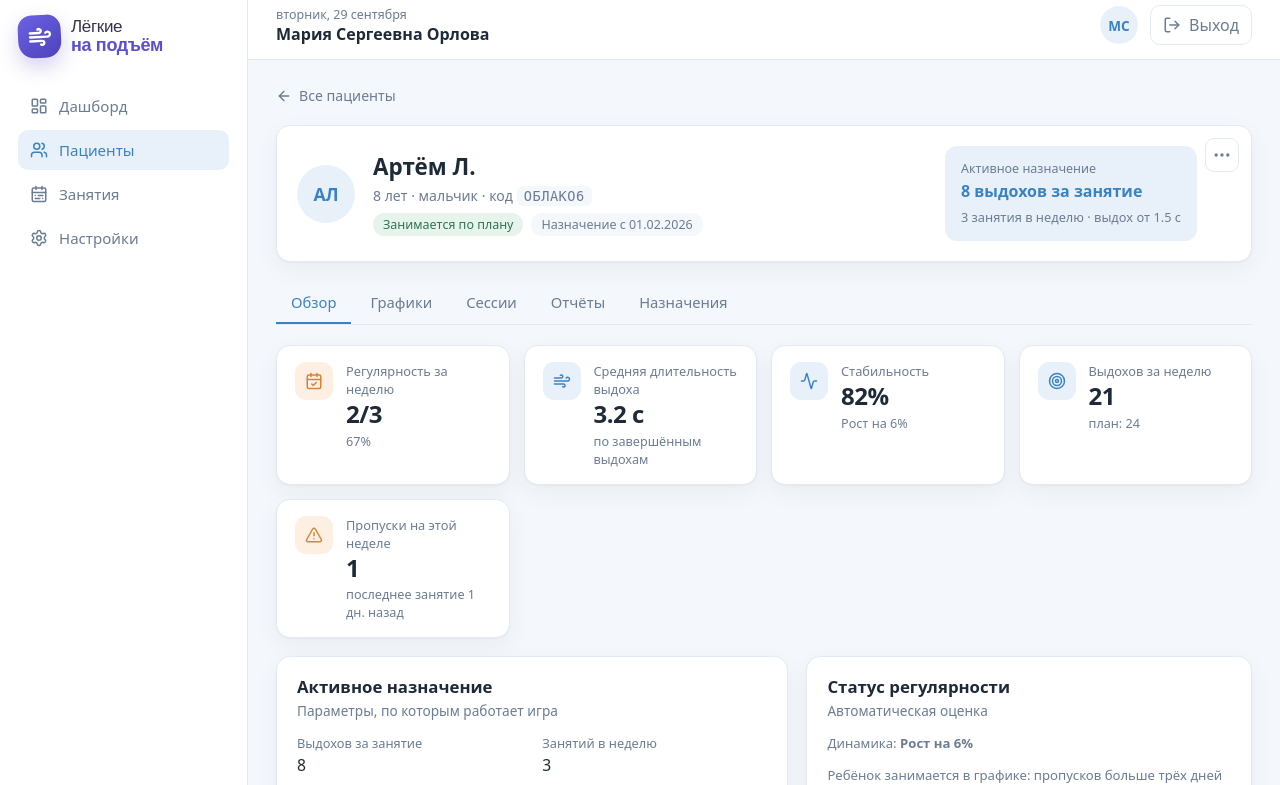
it: Карточка ребёнка: шапка и вкладки › переключение на «Графики» запрашивает аналитику и показывает сравнение периодов
Expected: the heading "Артём Л." is shown, [373, 151, 476, 182]
Click the link "Графики": (401, 302) [370, 292, 432, 312]
(page scrolled)
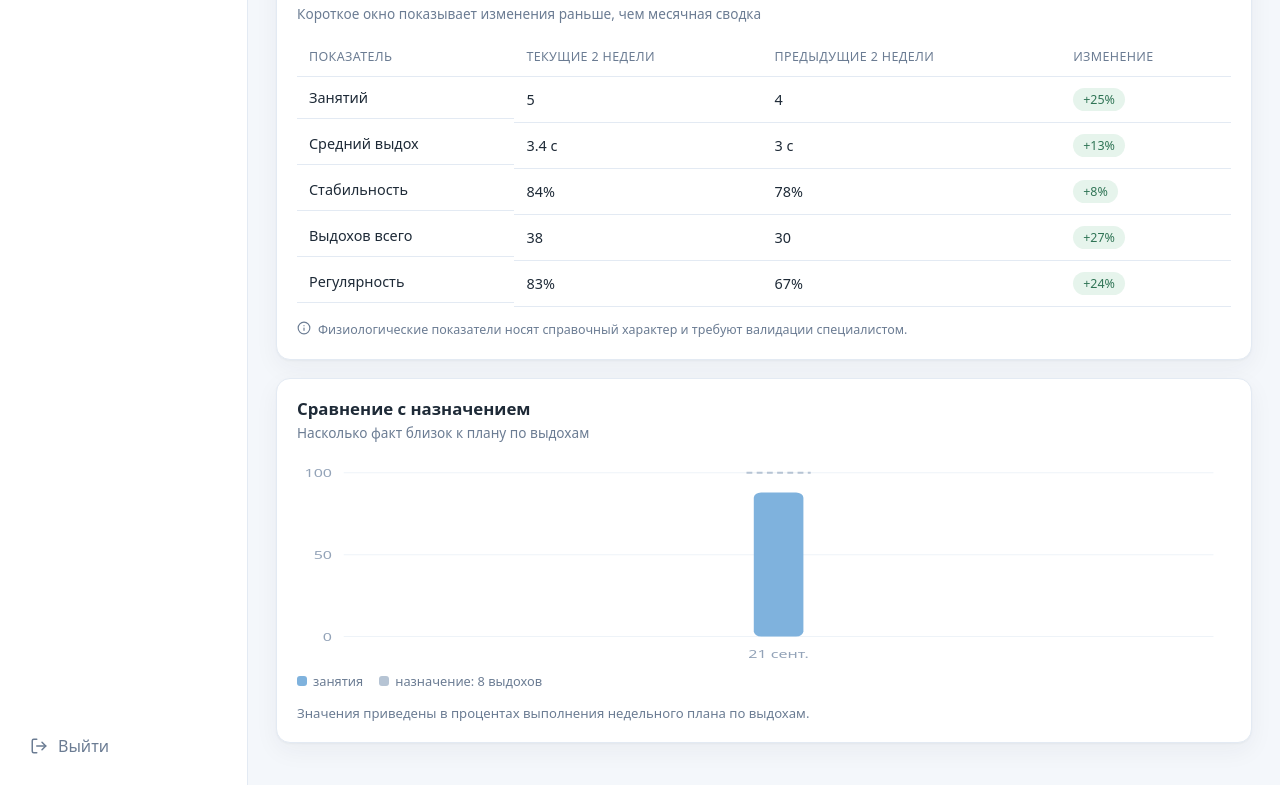
Result: the heading "Сравнение с назначением" is shown at [297, 397, 530, 420]
